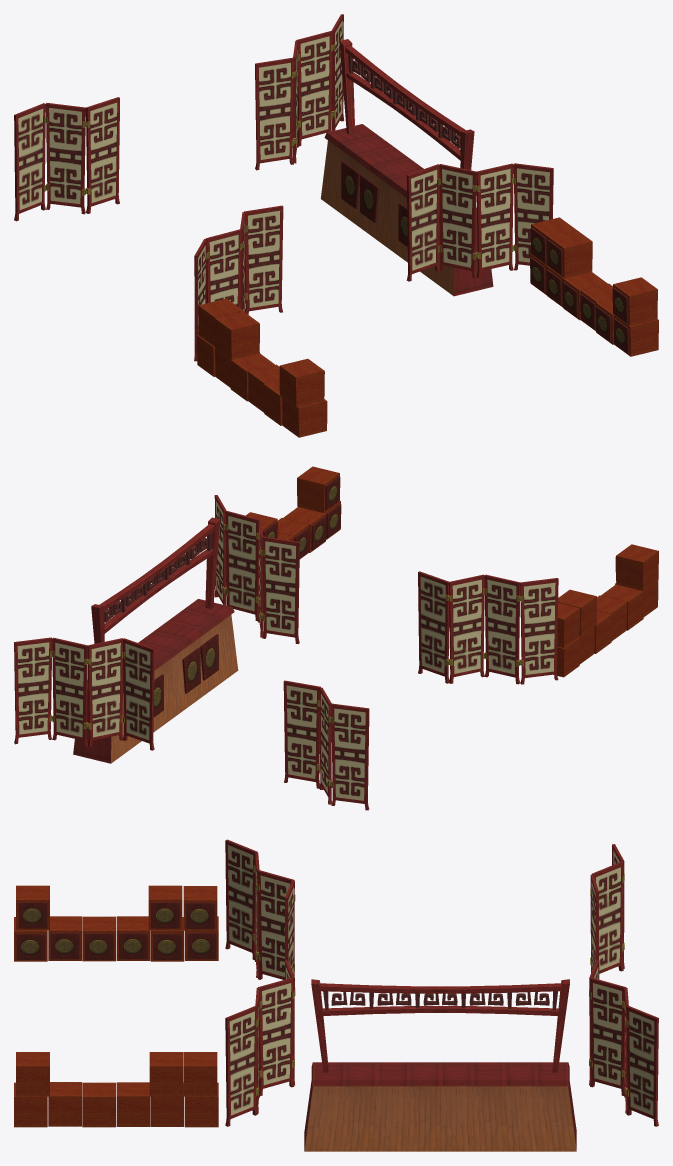
Rendered from decorations.obj.
3 renders of one model, top to bottom at view 1: azimuth 30°, elevation 25°; view 2: azimuth 150°, elevation 25°; view 3: azimuth 270°, elevation 25°, orthographic. The views are drawn at different scales.
Visible parts, largest first — view 1: Structure_MfurnituresRight_0; view 2: Structure_MfurnituresRight_0; view 3: Structure_MfurnituresRight_0.
Part boxes in pixels (left/top/right/bottom): Structure_MfurnituresRight_0: left=14, top=14, right=658, bottom=437; Structure_MfurnituresRight_0: left=14, top=466, right=658, bottom=810; Structure_MfurnituresRight_0: left=14, top=839, right=658, bottom=1151.
Size of the model in its own units: 600 by 248 by 905.
1 material, 1 textured.
